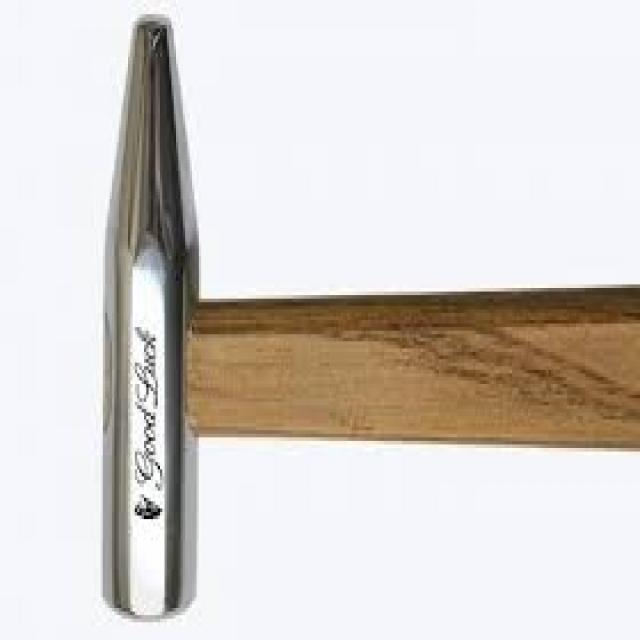hammer: (92, 10, 640, 628)
